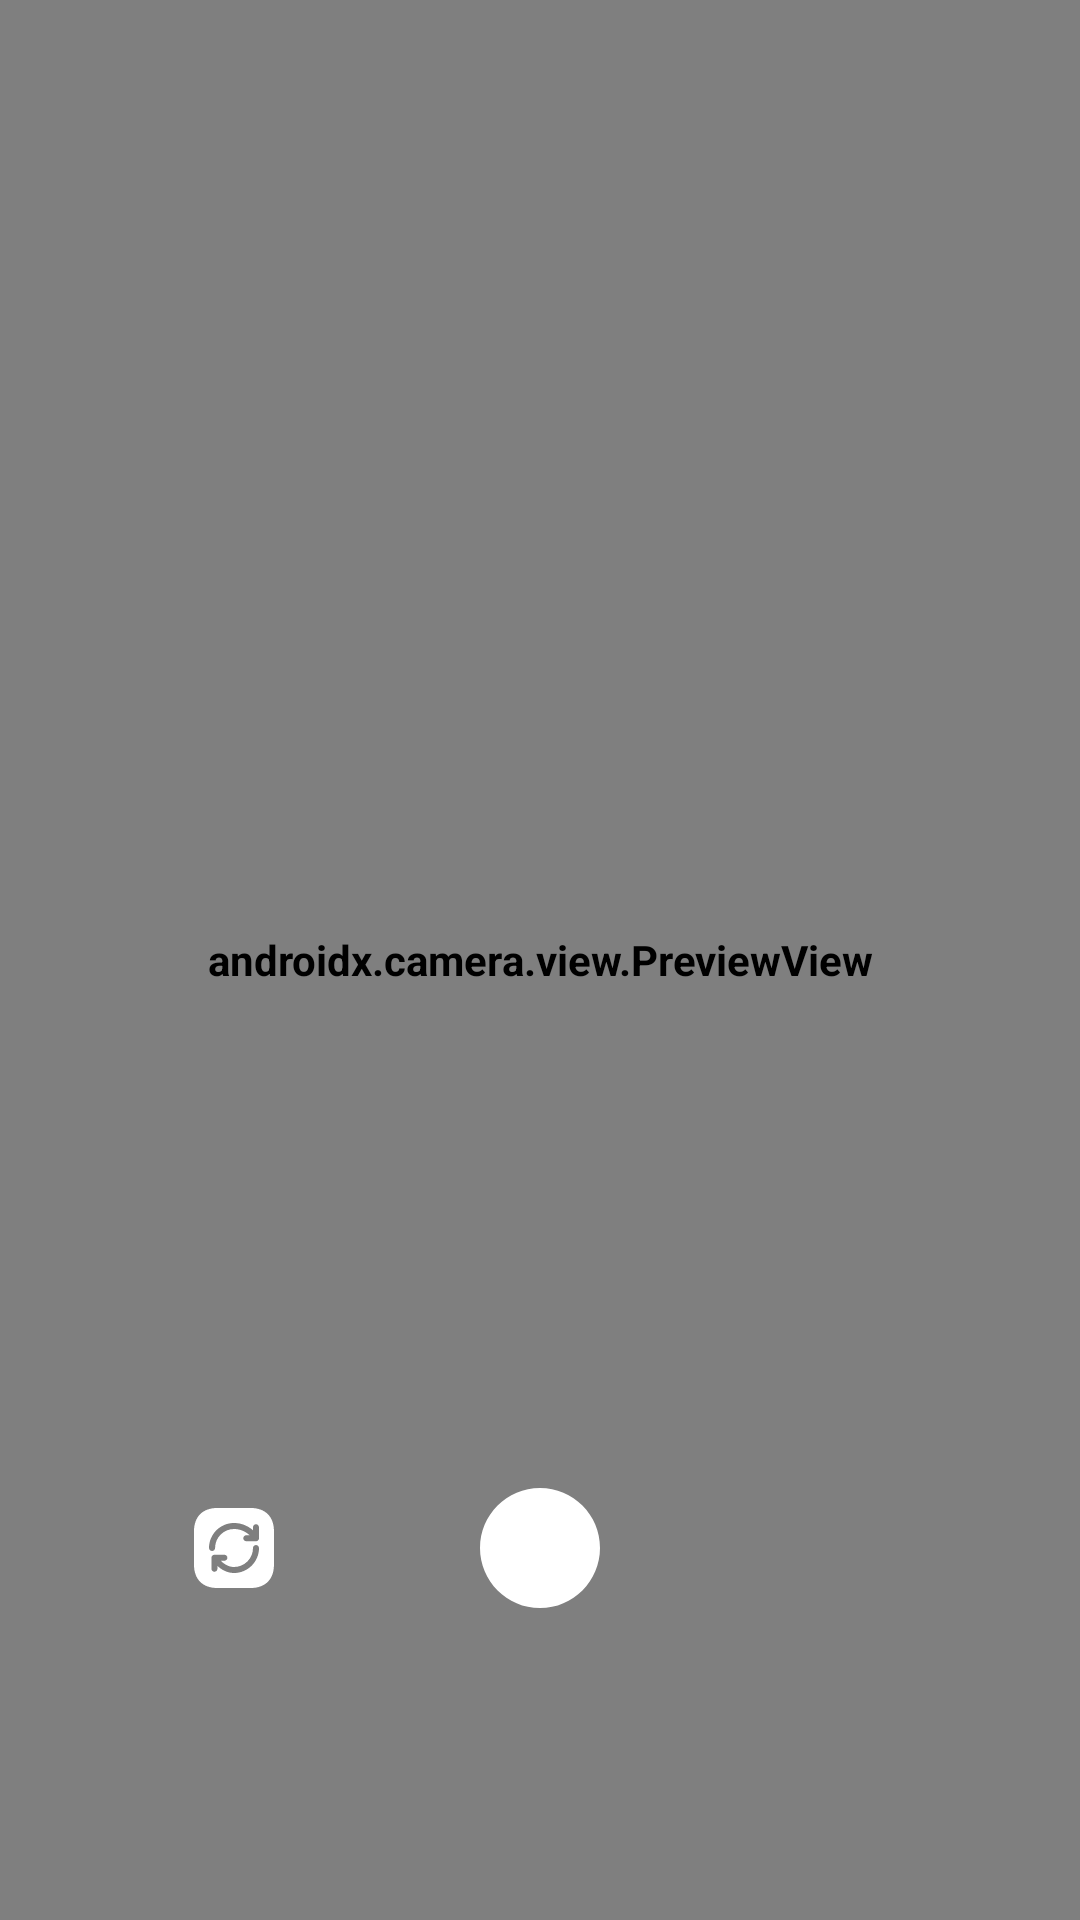

Named icons in this screenshot (1080px×1920px) and their bounding boxes, bbox(x1, y1, x2, y2):
flip camera: bbox(194, 1508, 274, 1588)
